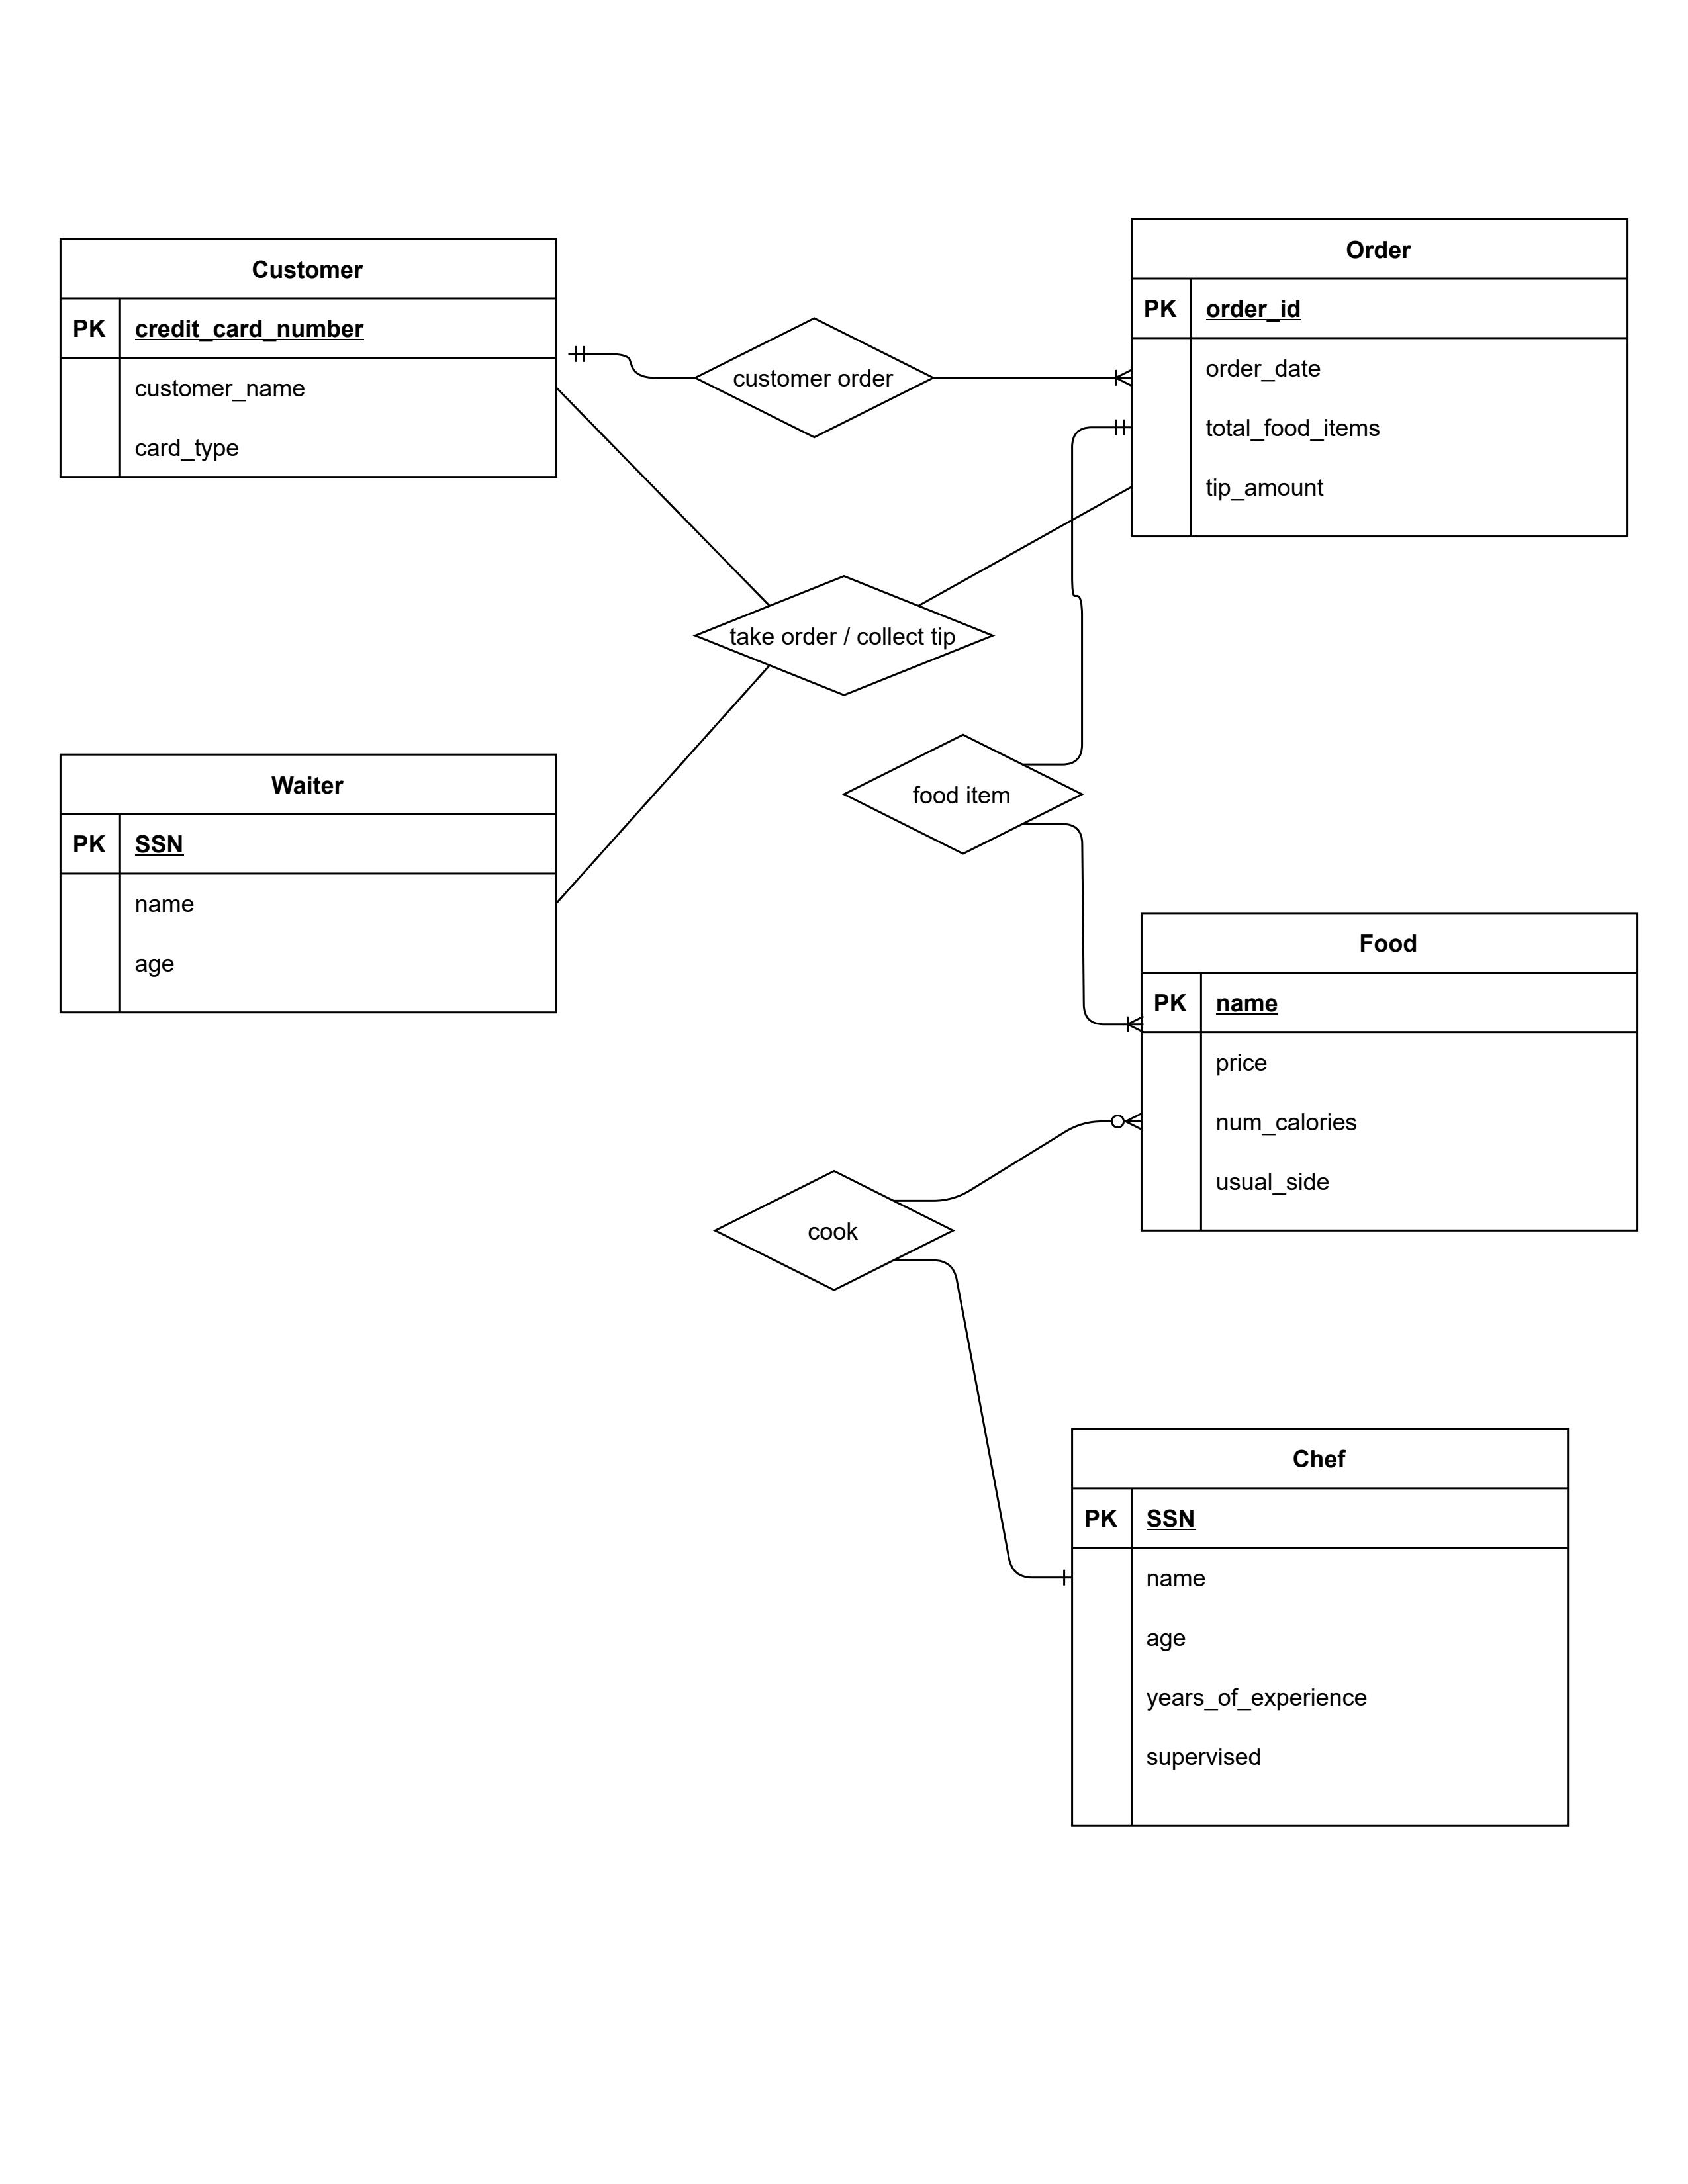Entity: (1071, 1427, 1571, 1829), (1129, 216, 1629, 539), (1140, 911, 1640, 1234), (57, 752, 559, 1014), (59, 236, 559, 479)
Relationship: (693, 574, 995, 697), (842, 732, 1082, 856), (697, 316, 933, 440), (713, 1172, 954, 1289)
